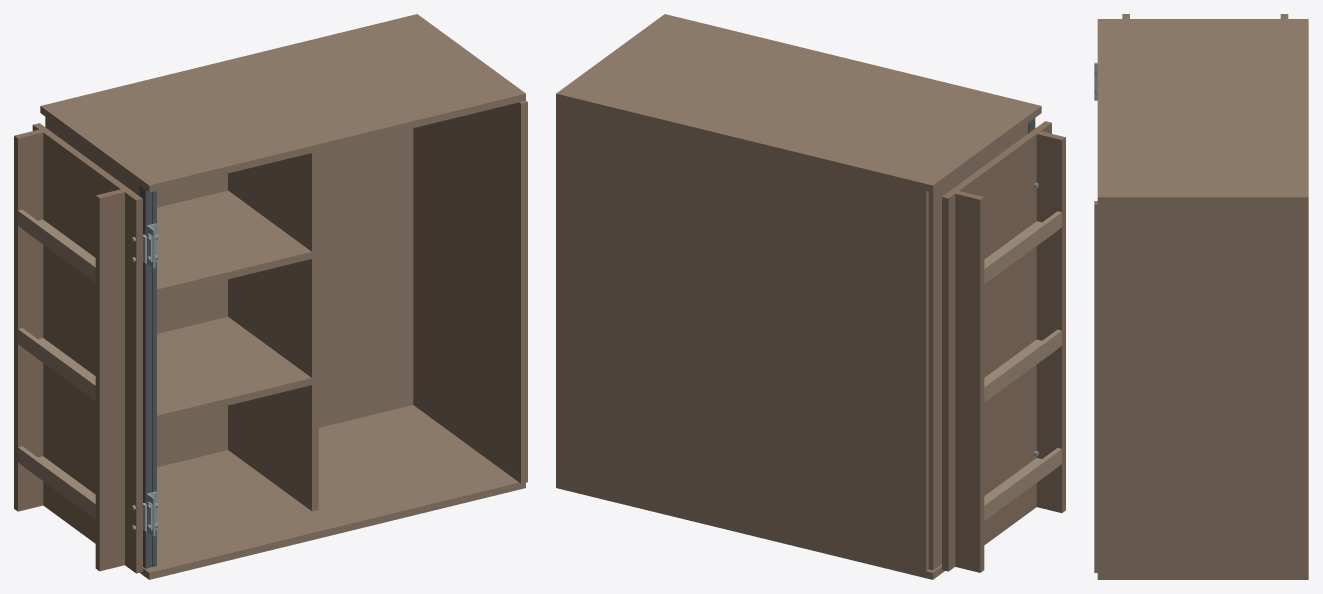
File: open-270.glb
3 views of the same model, side by side, from view 1: azimuth 30°, elevation 25°; view 2: azimuth 150°, elevation 25°; view 3: azimuth 270°, elevation 25° (orthographic). The views are drawn at different scales.
Visible parts, largest first — view 1: Top-18, Opposite-side-18, Back-12, Bottom-18, Door-face-18, Center-18, Door-inner-hinge-18, Left-shelf-1-18, Left-shelf-2-18, Door-inner-meeting-18, Post-30x30, Door-lip-1-12 (+3 smaller); view 2: Back-12, Top-18, Door-face-18, Door-inner-meeting-18, Door-inner-hinge-18, Side-12, Bottom-18, Opposite-side-18, Door-lip-3-12, Door-lip-2-12, Door-lip-1-12; view 3: Opposite-side-18, Top-18, Bottom-18.
Part boxes in pixels (x1,y1,x2,y2): Top-18: (40, 14, 525, 192); Opposite-side-18: (413, 101, 527, 483); Back-12: (157, 128, 413, 467); Bottom-18: (139, 405, 525, 579); Door-face-18: (32, 123, 142, 573); Center-18: (228, 151, 318, 511); Door-inner-hinge-18: (95, 189, 124, 571); Left-shelf-1-18: (157, 317, 311, 422); Left-shelf-2-18: (157, 190, 311, 296); Door-inner-meeting-18: (14, 129, 43, 511); Post-30x30: (139, 185, 156, 568); Door-lip-1-12: (18, 446, 95, 518); Back-12: (563, 102, 928, 570); Top-18: (556, 14, 1041, 192); Door-face-18: (942, 121, 1051, 571); Door-inner-meeting-18: (955, 191, 984, 572); Door-inner-hinge-18: (1036, 131, 1065, 512); Side-12: (928, 123, 1027, 570); Bottom-18: (556, 481, 944, 579); Opposite-side-18: (556, 101, 562, 482); Door-lip-3-12: (984, 211, 1061, 283); Door-lip-2-12: (984, 329, 1061, 401); Door-lip-1-12: (984, 448, 1061, 520); Opposite-side-18: (1094, 201, 1308, 572); Top-18: (1097, 19, 1308, 204); Bottom-18: (1097, 573, 1308, 579).
Size of the model in its own units: 1.1 by 1 by 0.508.
